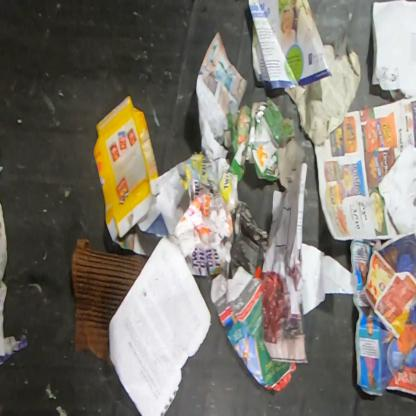cardboard: (93, 94, 161, 245), (70, 237, 150, 365)
metal: (255, 104, 267, 124)
